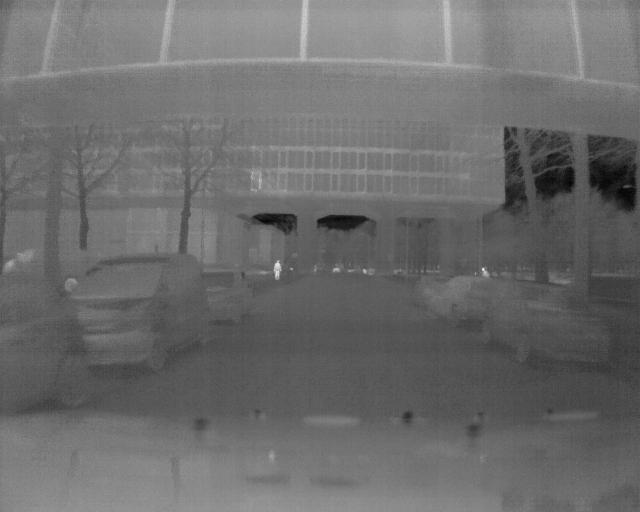car: (86, 254, 214, 370), (1, 259, 84, 405), (484, 282, 612, 370)
person: (273, 259, 282, 283)
